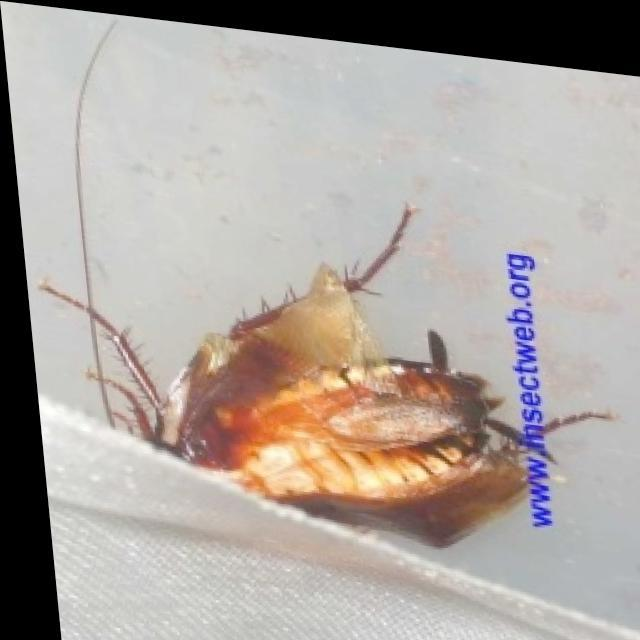cockroach: (40, 198, 614, 549)
